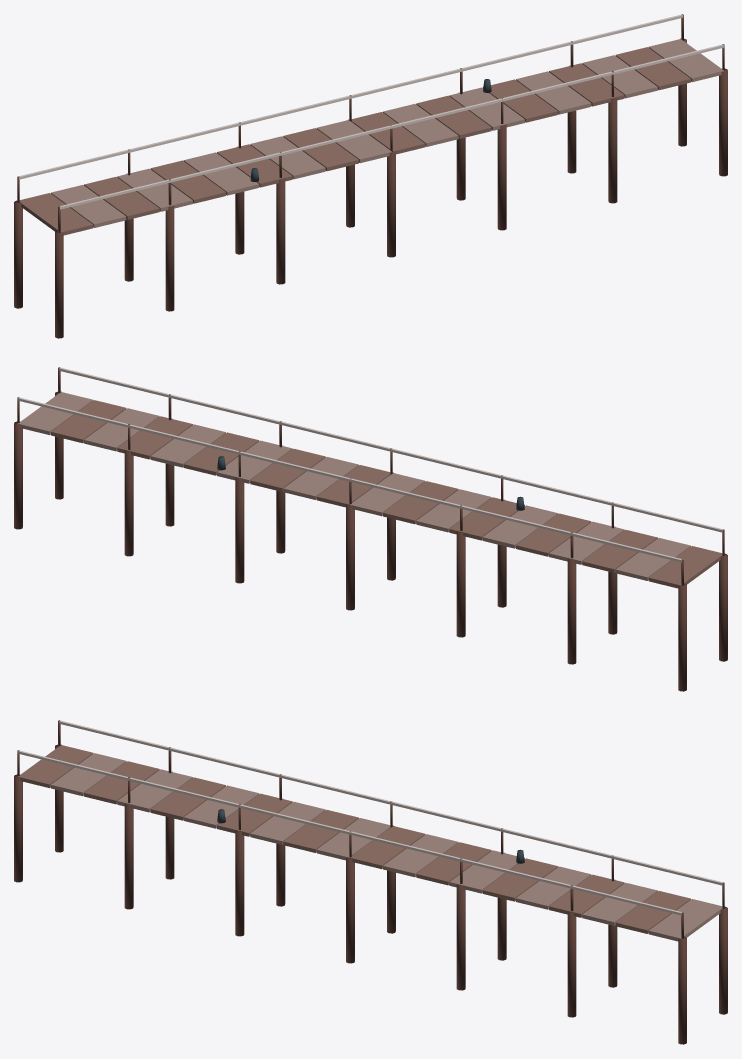
File: Pier.glb
The picture shows the model from 3 angles, top to bottom: view 1: azimuth 30°, elevation 25°; view 2: azimuth 150°, elevation 25°; view 3: azimuth 330°, elevation 25°; orthographic projection.
Parts seen in each view (by area): view 1: Pier; view 2: Pier; view 3: Pier.
Part boxes in pixels (x1,y1,x2,y2): Pier: (14,14,727,338); Pier: (14,367,727,691); Pier: (14,720,727,1044).
Size of the model in its own units: 30.36 by 5.6 by 3.56.
